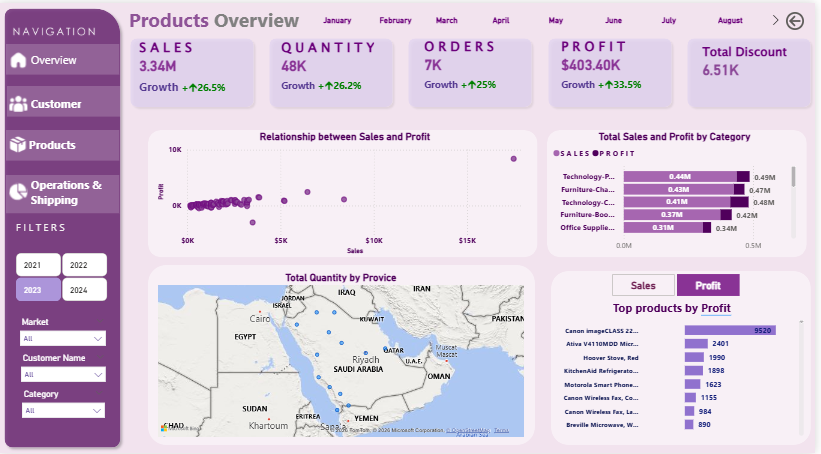

What the dashboard file says about the page in this screenshot:
{"tool":"powerbi","page":{"name":"products","canvas":[1360,750],"ordinal":2},"visuals":[{"type":"shape","box":[914,211,433,212],"z":0},{"type":"shape","box":[907.8,51,220,129],"z":1000},{"type":"shape","box":[249,437,645,300],"z":2000},{"type":"shape","box":[249,211,649,212],"z":3000},{"type":"shape","box":[920,446.7,433.3,290],"z":4000},{"type":"shape","box":[0,0,211.2,750],"z":5000},{"type":"shape","box":[11.2,68.8,188.8,51.2],"z":6000},{"type":"image","box":[16.1,35.7,150.9,30],"z":7000},{"type":"advancedSlicerVisual","fields":{"Values":["DimDate.Year"]},"box":[22.5,391.2,162.5,131.2],"z":8000},{"type":"textbox","box":[22.5,358.8,102.5,32.5],"z":9000},{"type":"actionButton","box":[13.8,67.5,163.8,53.8],"z":10000},{"type":"shape","box":[12.5,138.8,188.8,51.2],"z":11000},{"type":"shape","box":[11.2,211.2,188.8,51.2],"z":12000},{"type":"shape","box":[11.2,286.2,188.8,63.8],"z":13000},{"type":"actionButton","box":[13.8,139.3,165.9,55.3],"z":14000},{"type":"actionButton","box":[12.5,277.5,165,72.5],"z":15000},{"type":"slicer","fields":{"Values":["Customers.customer Name"]},"box":[26.2,577.5,161.2,60],"z":16000},{"type":"slicer","fields":{"Values":["DimMarkets.Market"]},"box":[25,517.5,162.5,60],"z":17000},{"type":"slicer","fields":{"Values":["Products.Category"]},"box":[27.5,637.5,157.5,56.2],"z":18000},{"type":"shape","box":[211,51,220,129],"z":19000},{"type":"shape","box":[443.2,51,220,129],"z":20000},{"type":"shape","box":[675.5,51,220,129],"z":21000},{"type":"shape","box":[1140,51,220,129],"z":22000},{"type":"cardVisual","fields":{"Data":["Measures (2).Q U A N T I T Y"]},"box":[453.3,56.7,210,116.7],"z":24000},{"type":"cardVisual","fields":{"Data":["Measures (2).Total Profit"]},"box":[920,56.7,206.7,111.7],"z":25000},{"type":"cardVisual","fields":{"Data":["Measures (2).O R D E R S"]},"box":[691.7,56.7,200,111.7],"z":26000},{"type":"cardVisual","fields":{"Data":["Measures (2).Total Discount"]},"box":[1155,56.7,180,76.7],"z":27000},{"type":"actionButton","box":[1306.7,10,53.3,40],"z":28000},{"type":"advancedSlicerVisual","fields":{"Values":["Parameter 2.Parameter"]},"box":[1020,450,216.7,40],"z":29000},{"type":"textbox","box":[1018.3,490,213.3,41.7],"z":30000},{"type":"advancedSlicerVisual","fields":{"Values":["DimDate.Month"]},"box":[508.3,6.7,801.7,43.3],"z":31000},{"type":"barChart","title":"Top 10 Customers  By Total Orders","fields":{"Category":["Dim Products.Product Name and Description"],"Y":["Measures (2).P R O F I T"]},"box":[928.3,518.3,415,205],"z":32000},{"type":"map","title":"Total Quantity by Provice","fields":{"Category":["Dim provice_city.Provice","Dim provice_city.City"],"Y":["Measures (2).Q U A N T I T Y"]},"box":[260,446.7,620,281.7],"z":33000},{"type":"cardVisual","fields":{"Data":["Measures (2).S A L E S"]},"box":[216.7,56.7,208.3,116.7],"z":34000},{"type":"scatterChart","title":"Relationship between Sales and Profit","fields":{"X":["Fact_Orders.Sales"],"Y":["Fact_Orders.Profit"]},"box":[260,211.7,633.3,211.7],"z":35000},{"type":"barChart","title":"Total Sales and Profit by Category","fields":{"Category":["Products.Category"],"Y":["Measures (2).S A L E S","Measures (2).P R O F I T"]},"box":[918,211.7,415,210],"z":36000},{"type":"textbox","box":[211.7,0,296.7,60],"z":37000},{"type":"actionButton","box":[9.2,209.1,164.8,54.1],"z":38000}]}

Visuals, with their boxes on the page's 1360x750 design canvas (x1, y1, x2, y2). These are canvas units, not pixel positions in the 821x454 screenshot, which may show the page scaled, cropped or inside an application window:
shape: x1=914 y1=211 x2=1347 y2=423
shape: x1=908 y1=51 x2=1128 y2=180
shape: x1=249 y1=437 x2=894 y2=737
shape: x1=249 y1=211 x2=898 y2=423
shape: x1=920 y1=447 x2=1353 y2=737
shape: x1=0 y1=0 x2=211 y2=750
shape: x1=11 y1=69 x2=200 y2=120
image: x1=16 y1=36 x2=167 y2=66
advancedSlicerVisual - DimDate.Year: x1=22 y1=391 x2=185 y2=522
textbox: x1=22 y1=359 x2=125 y2=391
actionButton: x1=14 y1=68 x2=178 y2=121
shape: x1=12 y1=139 x2=201 y2=190
shape: x1=11 y1=211 x2=200 y2=262
shape: x1=11 y1=286 x2=200 y2=350
actionButton: x1=14 y1=139 x2=180 y2=195
actionButton: x1=12 y1=278 x2=178 y2=350
slicer - Customers.customer Name: x1=26 y1=578 x2=187 y2=638
slicer - DimMarkets.Market: x1=25 y1=518 x2=188 y2=578
slicer - Products.Category: x1=28 y1=638 x2=185 y2=694
shape: x1=211 y1=51 x2=431 y2=180
shape: x1=443 y1=51 x2=663 y2=180
shape: x1=676 y1=51 x2=896 y2=180
shape: x1=1140 y1=51 x2=1360 y2=180
cardVisual - Measures (2).Q U A N T I T Y: x1=453 y1=57 x2=663 y2=173
cardVisual - Measures (2).Total Profit: x1=920 y1=57 x2=1127 y2=168
cardVisual - Measures (2).O R D E R S: x1=692 y1=57 x2=892 y2=168
cardVisual - Measures (2).Total Discount: x1=1155 y1=57 x2=1335 y2=133
actionButton: x1=1307 y1=10 x2=1360 y2=50
advancedSlicerVisual - Parameter 2.Parameter: x1=1020 y1=450 x2=1237 y2=490
textbox: x1=1018 y1=490 x2=1232 y2=532
advancedSlicerVisual - DimDate.Month: x1=508 y1=7 x2=1310 y2=50
"Top 10 Customers  By Total Orders" barChart: x1=928 y1=518 x2=1343 y2=723
"Total Quantity by Provice" map: x1=260 y1=447 x2=880 y2=728
cardVisual - Measures (2).S A L E S: x1=217 y1=57 x2=425 y2=173
"Relationship between Sales and Profit" scatterChart: x1=260 y1=212 x2=893 y2=423
"Total Sales and Profit by Category" barChart: x1=918 y1=212 x2=1333 y2=422
textbox: x1=212 y1=0 x2=508 y2=60
actionButton: x1=9 y1=209 x2=174 y2=263
